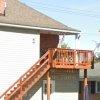stairs: (4, 60, 50, 99)
